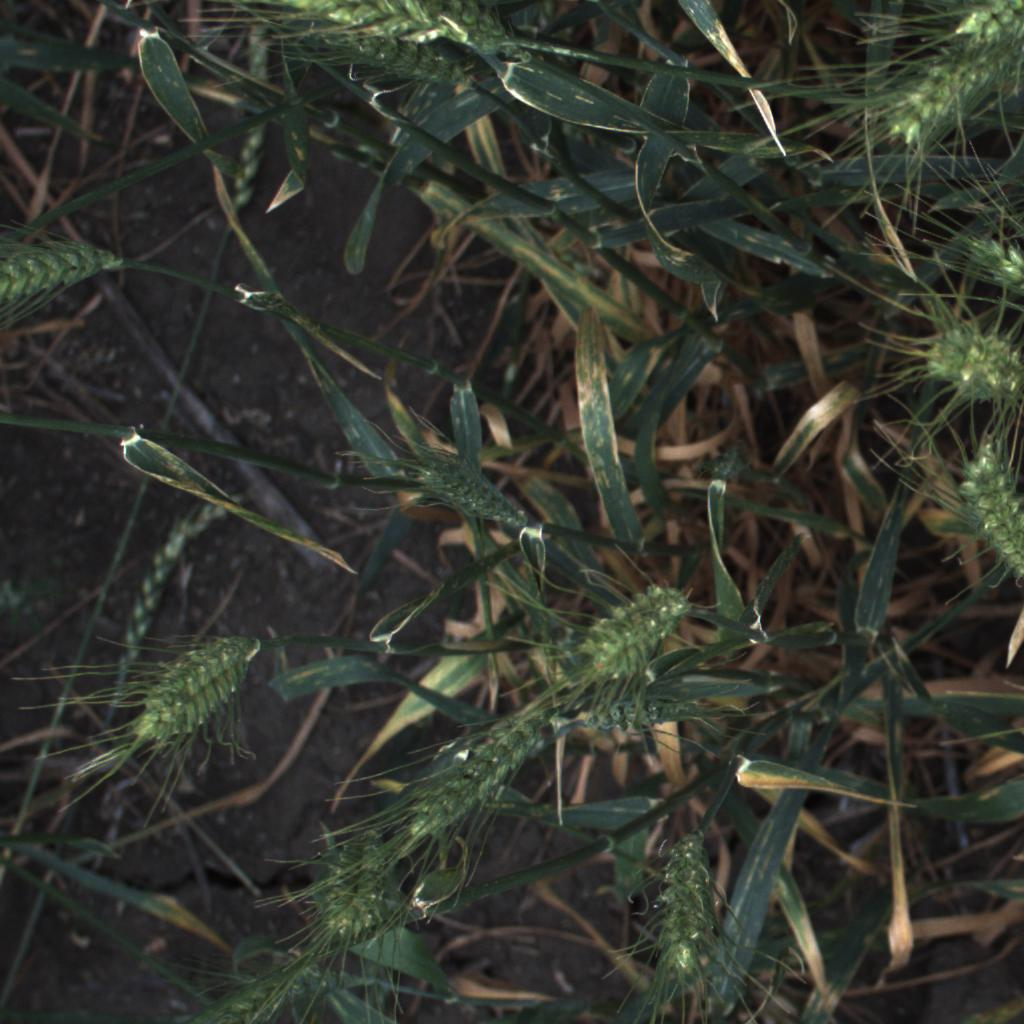0-0: (112, 615, 268, 763), (400, 705, 551, 851), (863, 18, 1024, 152), (384, 431, 544, 544), (273, 0, 515, 65), (643, 818, 730, 993), (0, 212, 133, 322), (937, 430, 1024, 589), (571, 582, 689, 675), (320, 828, 402, 949), (913, 317, 1024, 394), (212, 959, 336, 1024), (573, 694, 693, 744), (929, 0, 1024, 59), (956, 223, 1024, 299)
